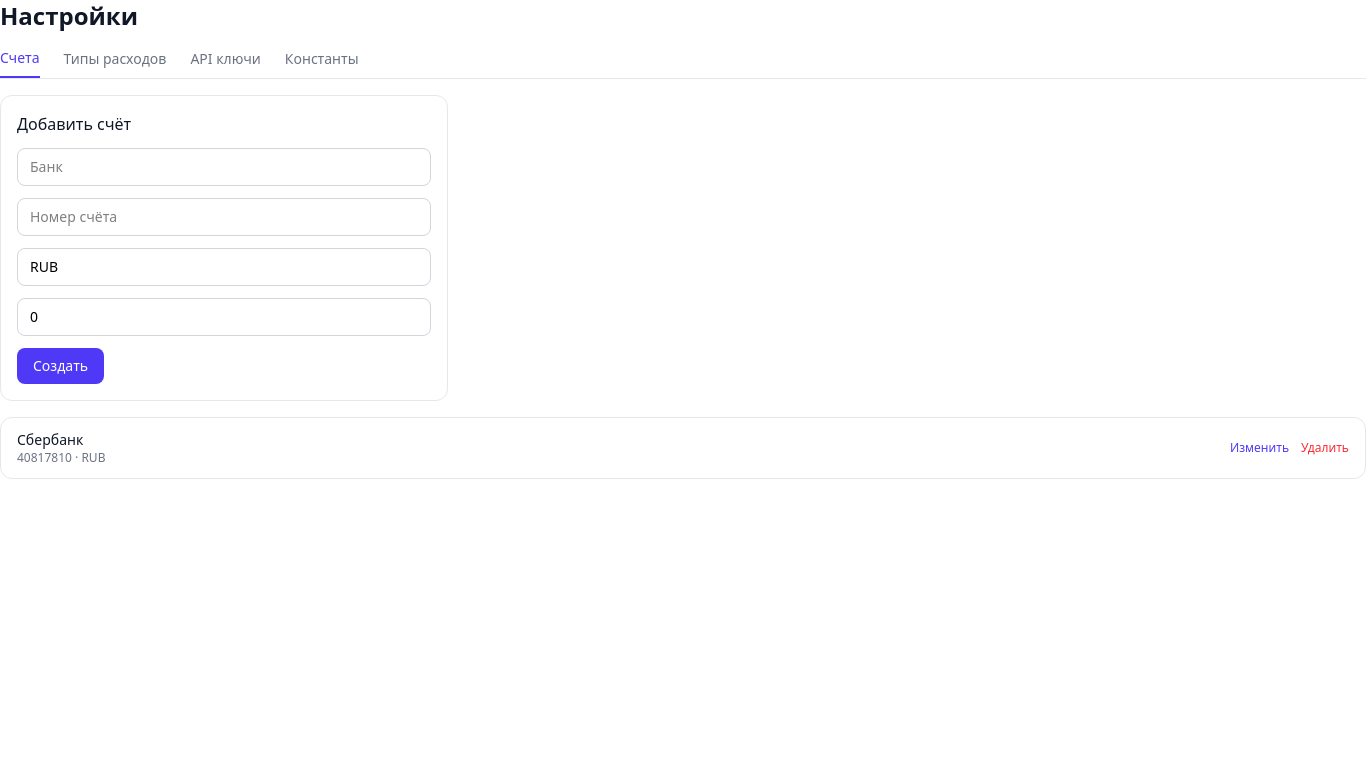
it: Settings — ExpenseTypesTab edit modal › closes modal when Отмена is clicked
Click the button "Типы расходов" at (115, 63), box [64,48,166,78]
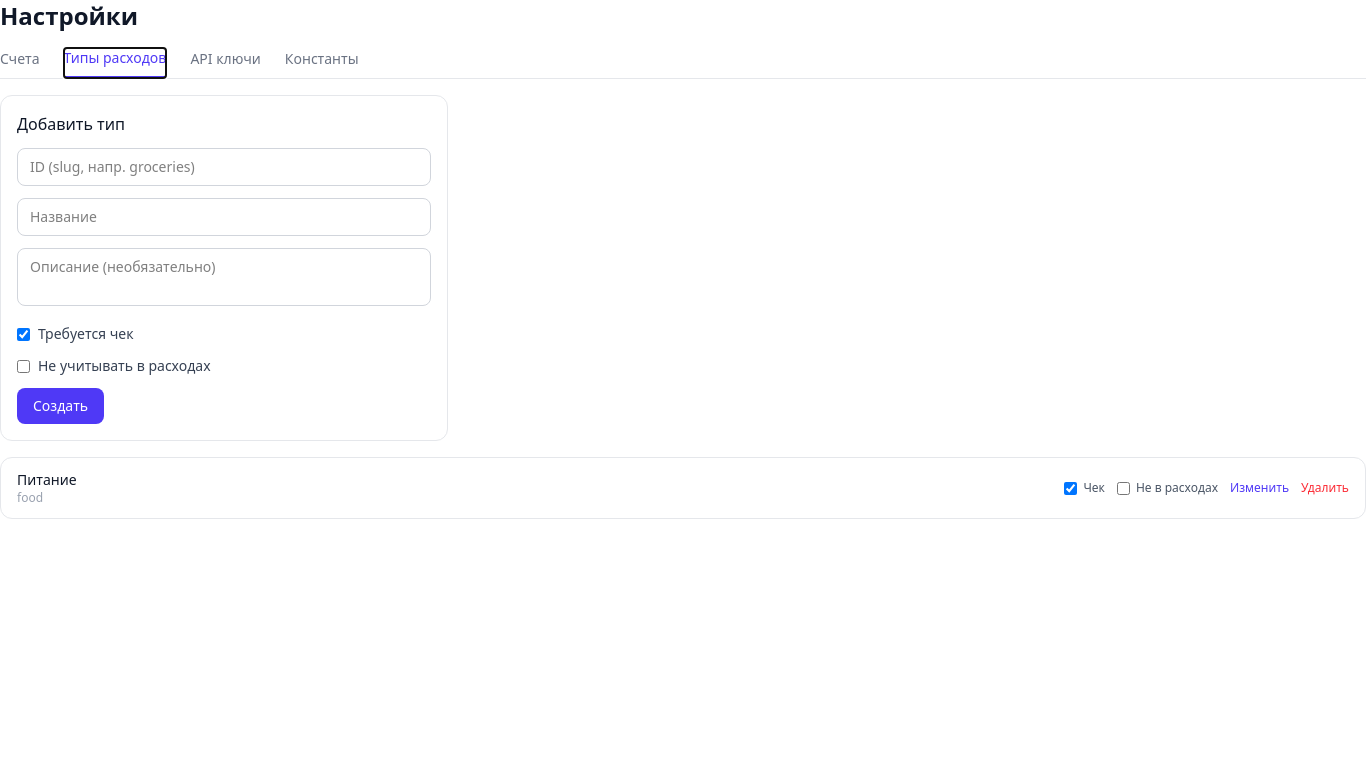
Expected: the text "Питание" is shown, [17,470,77,490]
Click the button "Изменить" at (1260, 488), box [1230,480,1289,496]
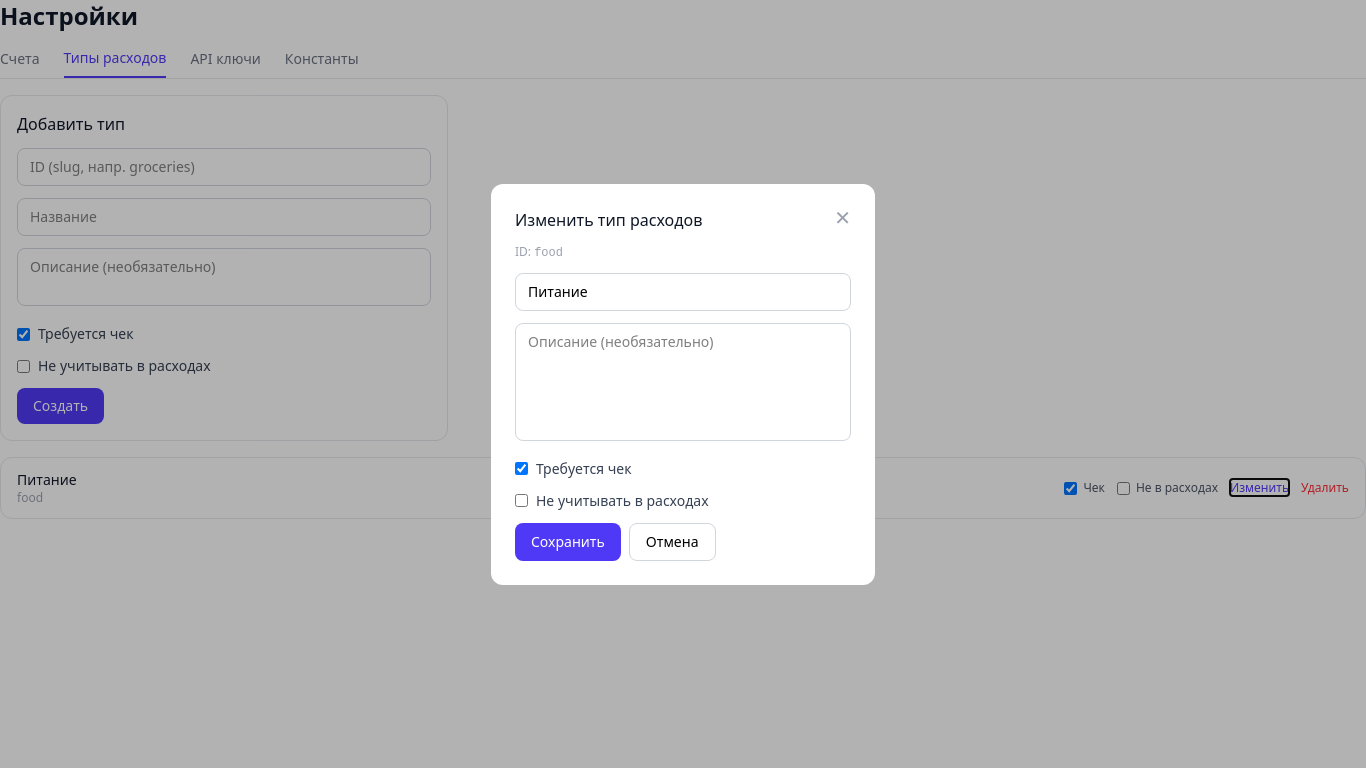
Expected: the heading "Изменить тип расходов" is shown, [515,208,702,232]
Click the button "Отмена" at (672, 542), box [629,522,716,560]
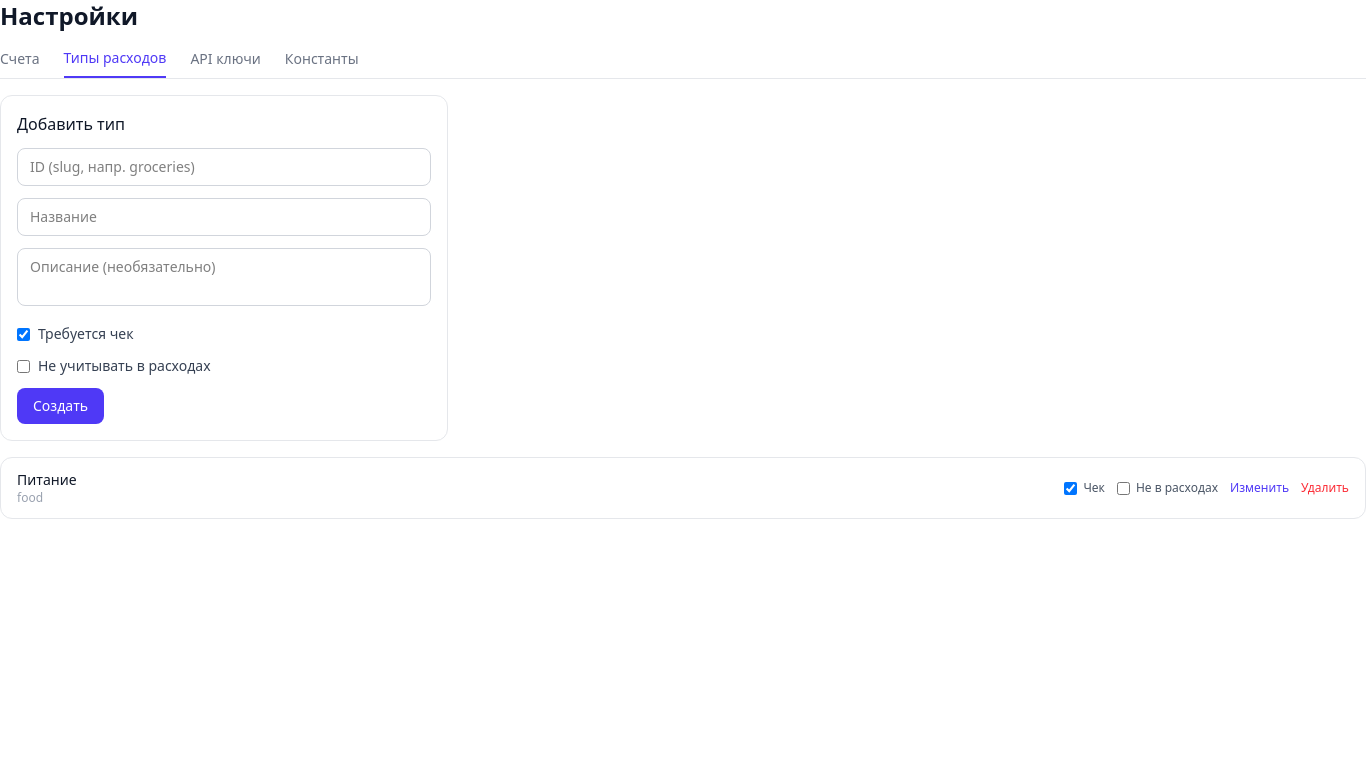
Expected: the heading "Изменить тип расходов" is gone
